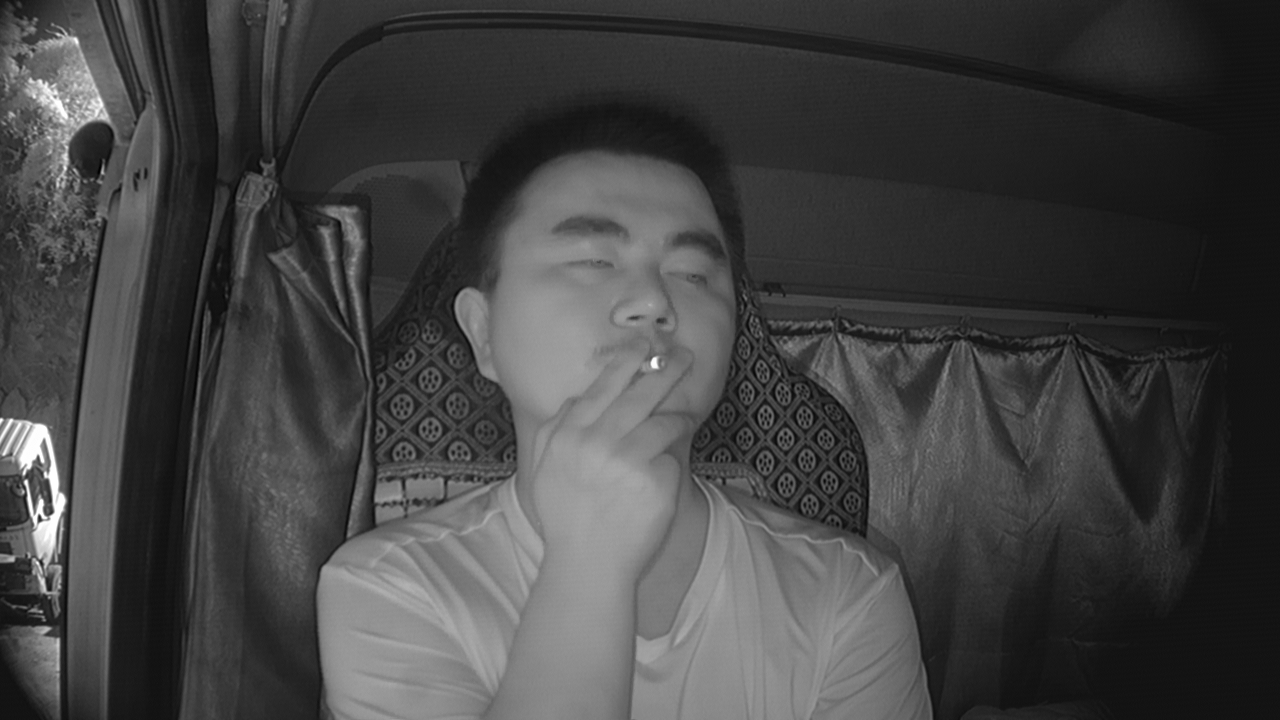hand: (526, 337, 696, 531)
